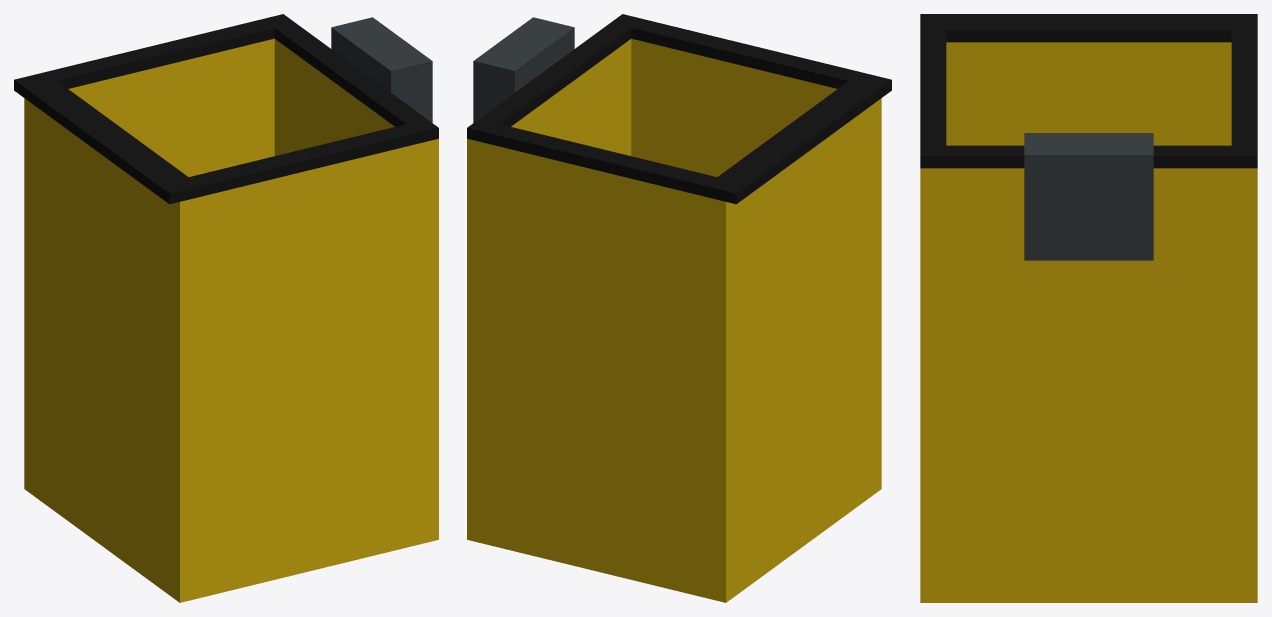
The model's file is bucket_truck_basket.glb.
3 renders of one model, left to right at view 1: azimuth 30°, elevation 25°; view 2: azimuth 150°, elevation 25°; view 3: azimuth 270°, elevation 25°, orthographic. The views are drawn at different scales.
Visible parts, largest first — view 1: body:compound; view 2: body:compound; view 3: body:compound.
Part boxes in pixels (x1=…): body:compound: x1=14, y1=14, x2=438, y2=602; body:compound: x1=467, y1=14, x2=891, y2=602; body:compound: x1=920, y1=14, x2=1257, y2=602.
Bounding box in the file's own units: 0.9375 × 1.25 × 0.8125.
